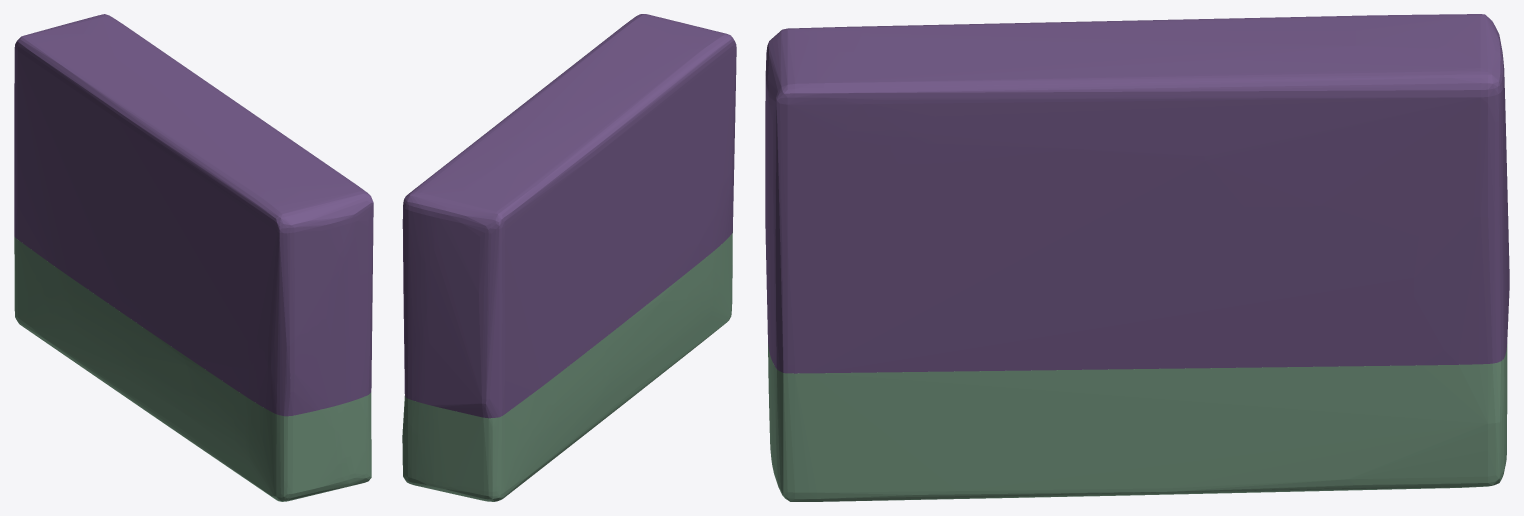
Rendered from coacd_collision.obj.
3 views of the same model, side by side, from view 1: azimuth 30°, elevation 25°; view 2: azimuth 150°, elevation 25°; view 3: azimuth 270°, elevation 25° (orthographic). The views are drawn at different scales.
Parts seen in each view (by area): view 1: geometry_1, geometry_0; view 2: geometry_1, geometry_0; view 3: geometry_1, geometry_0.
Boxes of the visible parts, x1,y1,x2,y2 form: geometry_1: (14,14,373,416); geometry_0: (14,236,371,501); geometry_1: (402,14,736,418); geometry_0: (402,231,732,501); geometry_1: (765,14,1509,373); geometry_0: (768,344,1507,501).
Bounding box in the file's own units: 34.85 × 87.94 × 142.
